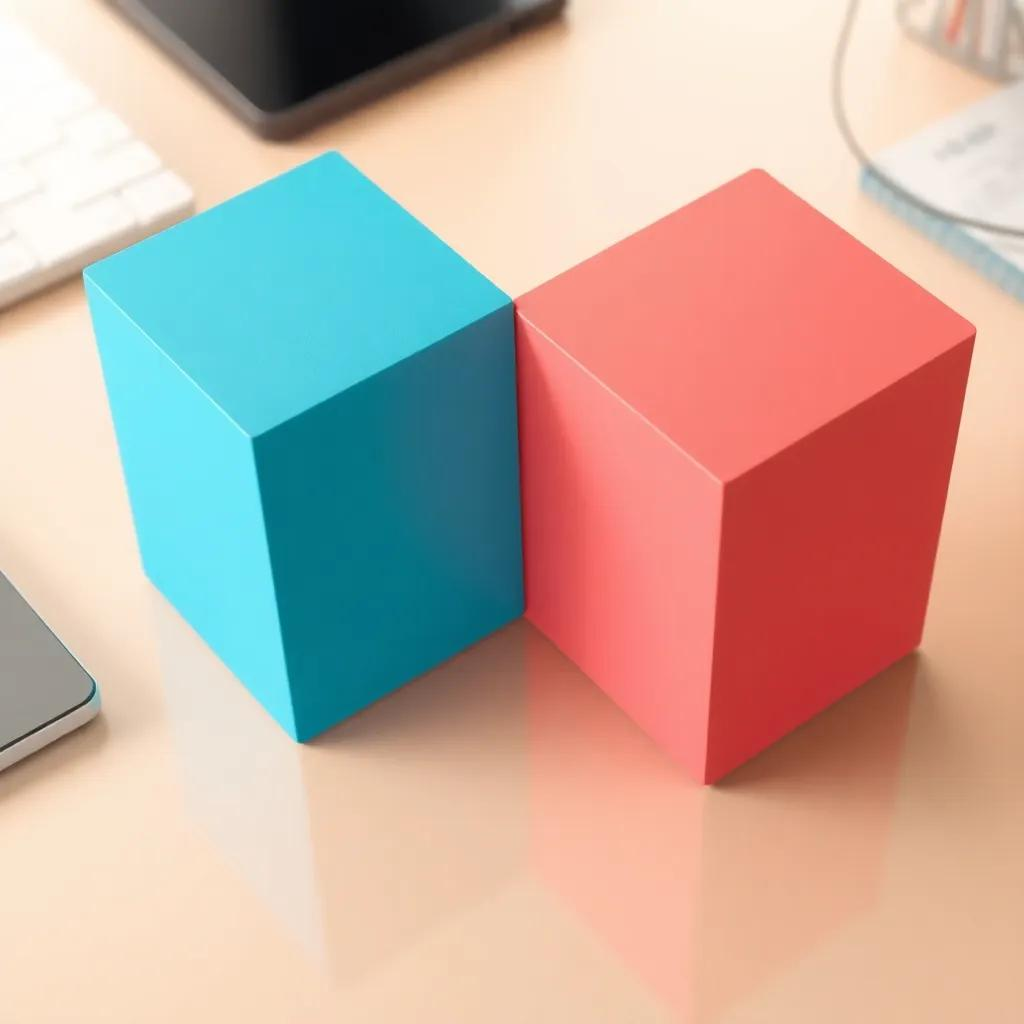cube: (512, 165, 976, 786), (80, 147, 526, 744)
